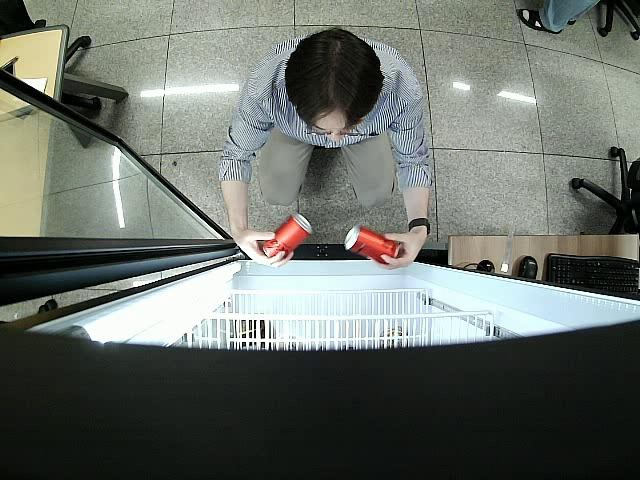00_hand: (365, 232, 420, 272), (239, 230, 293, 269)
11_cocaColaZero: (262, 214, 314, 260), (345, 226, 403, 265)
